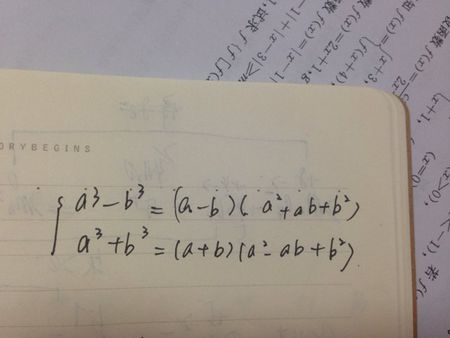cube: (89, 185, 101, 209), (138, 224, 151, 240), (92, 225, 104, 241), (138, 180, 147, 199)
square: (275, 192, 283, 204)
